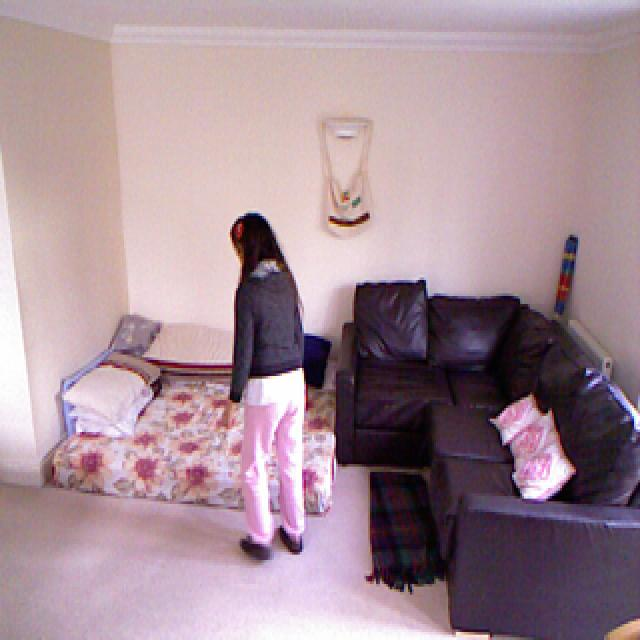standing: (217, 193, 314, 574)
